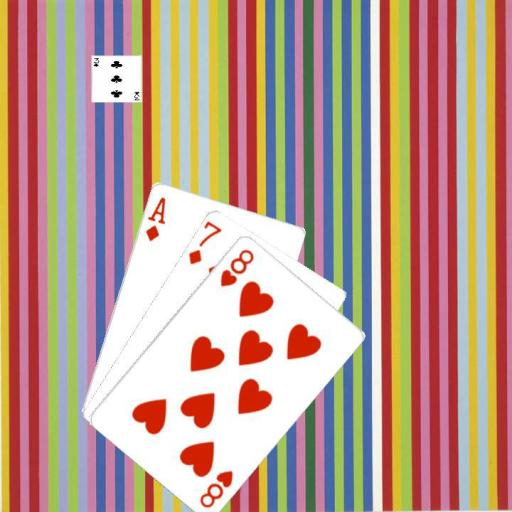7D: (185, 218, 223, 266)
8H: (217, 245, 256, 288), (196, 467, 235, 509)
AD: (142, 194, 167, 243)
